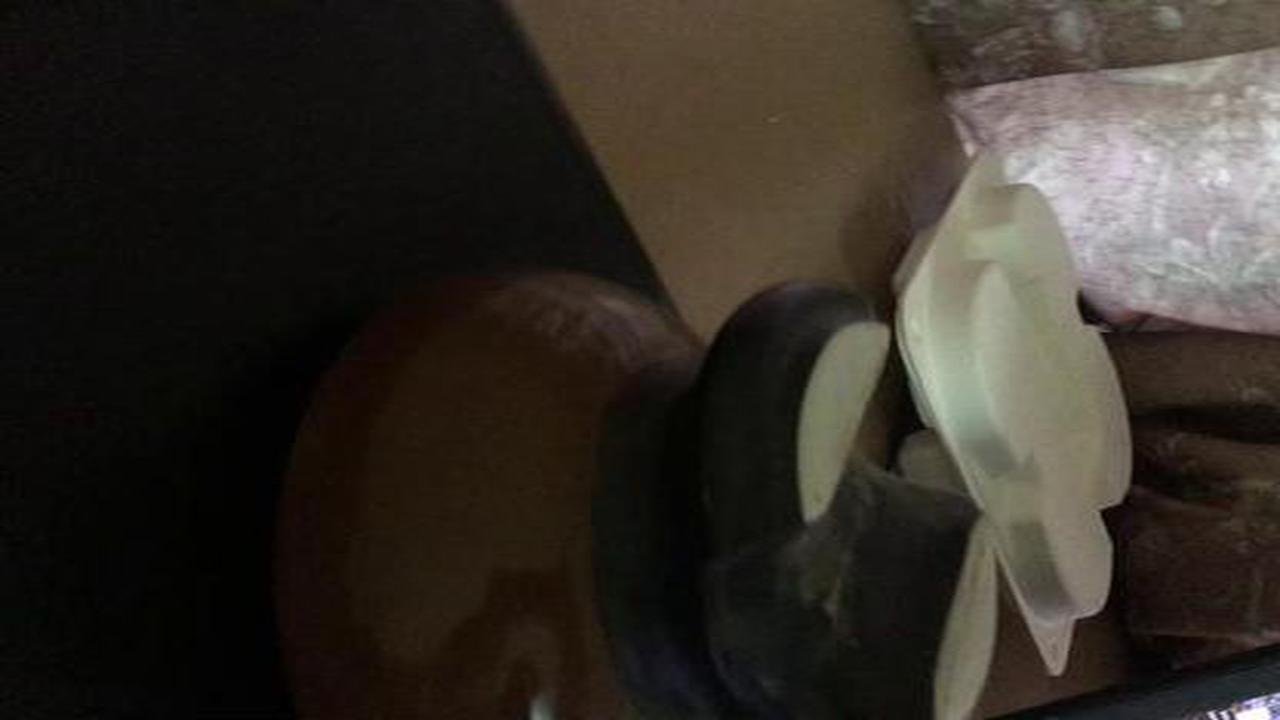insulator_pin: (252, 258, 1044, 720)
